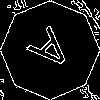A: (25, 25, 82, 82)
